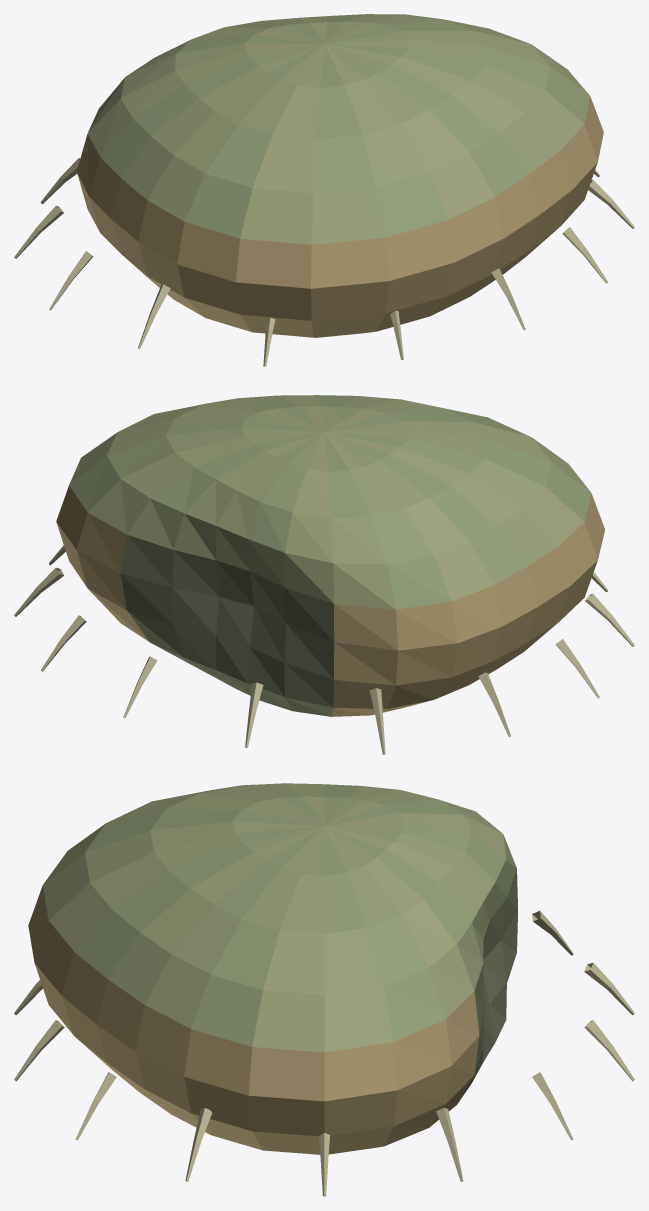
The model's file is BacterialGrazer.gltf.
3 renders of one model, top to bottom at view 1: azimuth 30°, elevation 25°; view 2: azimuth 150°, elevation 25°; view 3: azimuth 270°, elevation 25°, orthographic. The views are drawn at different scales.
Parts seen in each view (by area): view 1: BacterialGrazer; view 2: BacterialGrazer; view 3: BacterialGrazer.
Part boxes in pixels (box(x1,y1,x2,y2)): BacterialGrazer: box(14, 14, 634, 366); BacterialGrazer: box(14, 395, 634, 754); BacterialGrazer: box(14, 783, 634, 1196).
Bounding box in the file's own units: 2.35 × 1 × 2.06.
